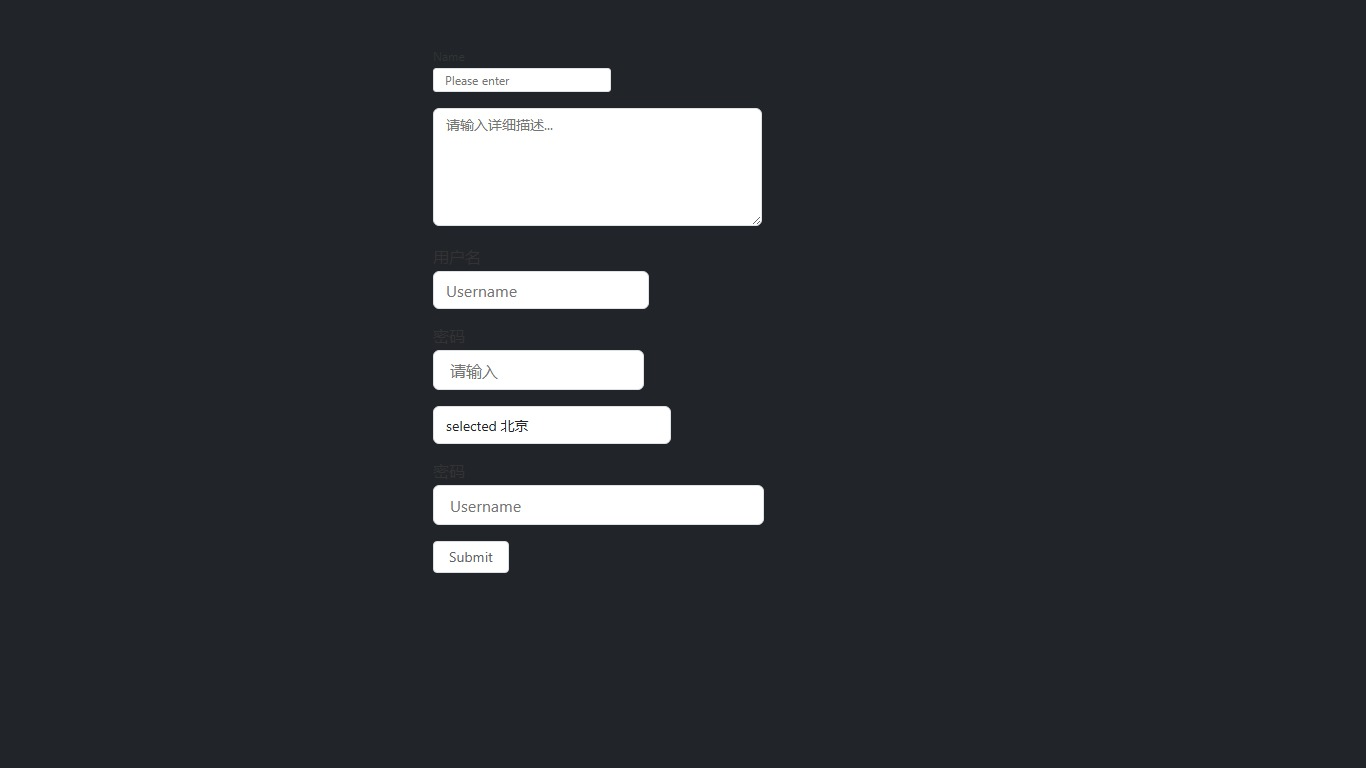button: (433, 541, 509, 573)
input: (433, 485, 764, 525), (433, 350, 644, 390), (433, 271, 649, 309), (433, 68, 611, 92)
select: (433, 406, 671, 444)
textarea: (433, 108, 762, 226)
